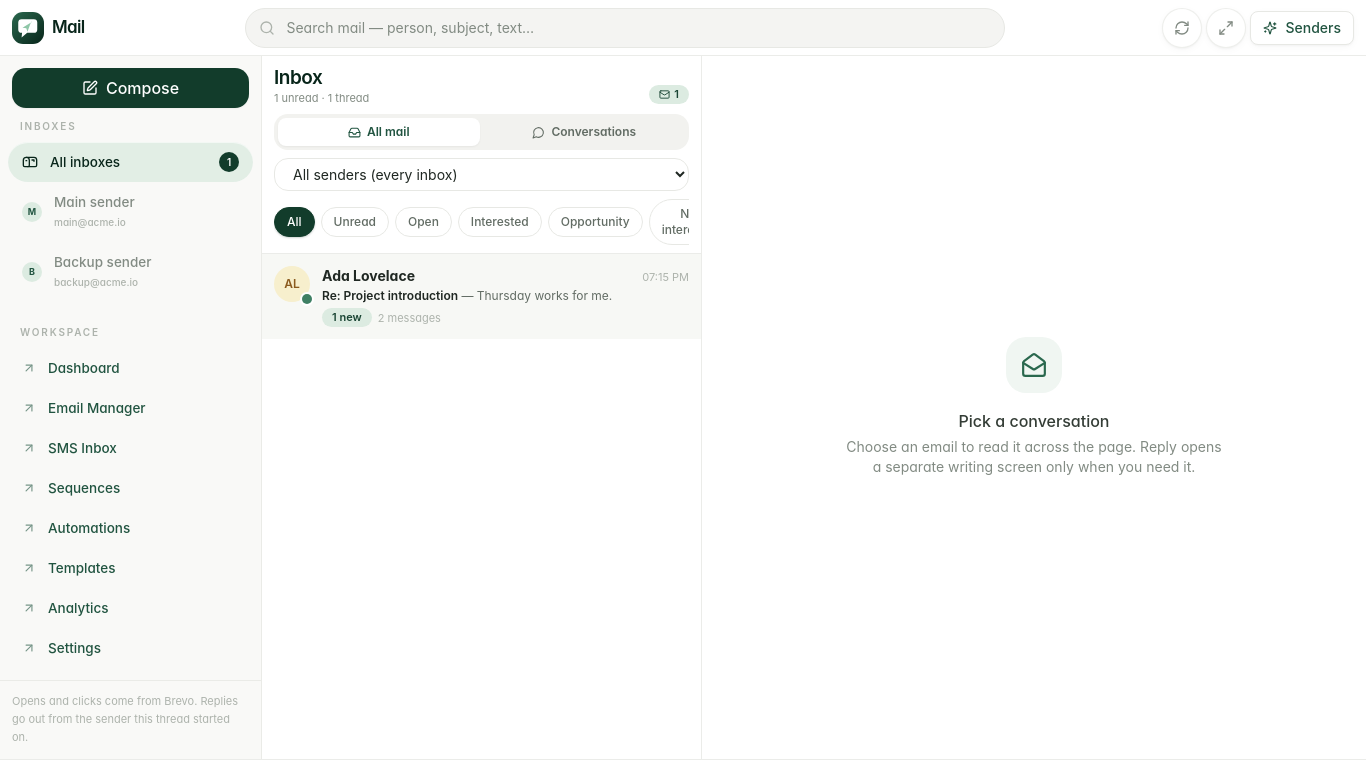
Test case: EmailInboxPage contact information › shows saved contact details, the alternate reply address, WhatsApp info, and upcoming meetings
Click the button "Ada Lovelace" at (482, 297), box [262,254,701,339]
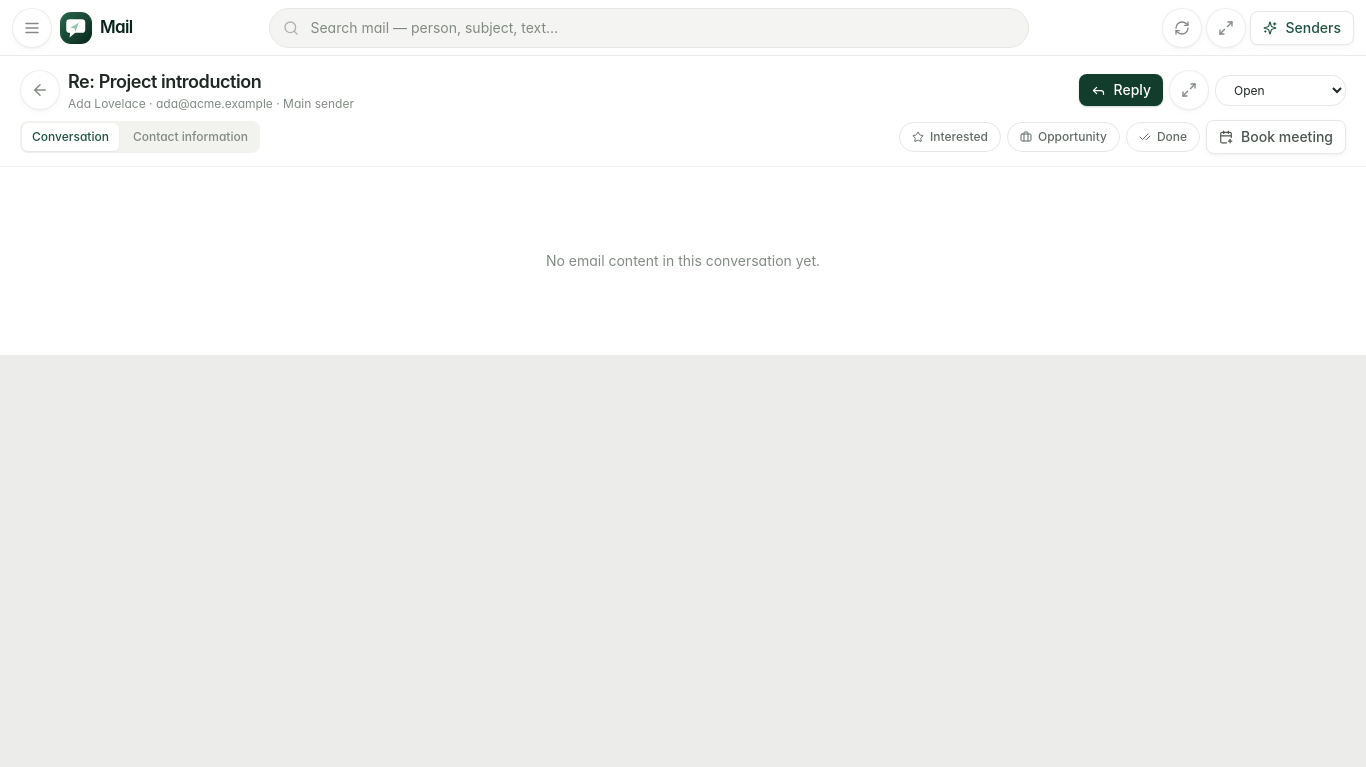
Expected: the tab "Contact information" is shown
Click the tab "Contact information" at (190, 137), box [123,123,258,151]
(page scrolled)
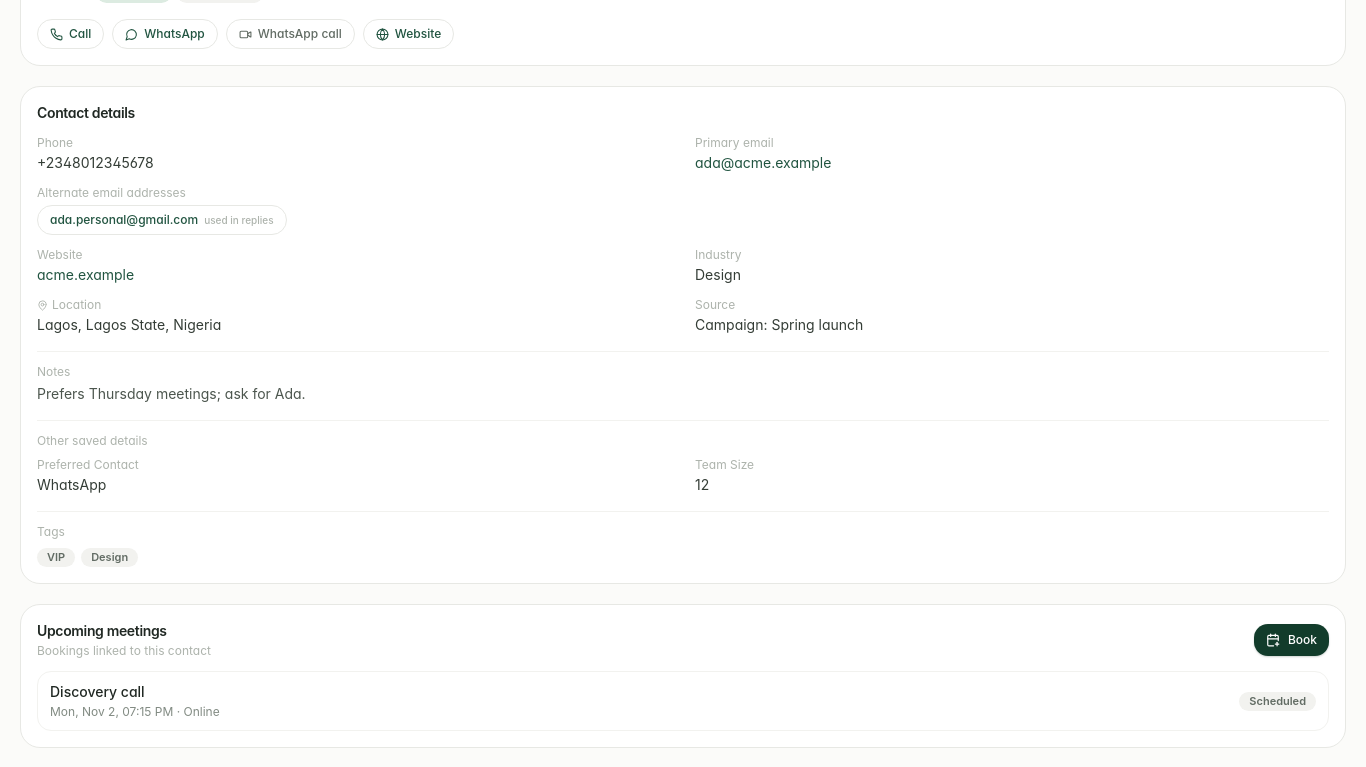
Expected: the link "ada@acme.example" is shown, [695,154,831,171]
Expected: the link "ada.personal@gmail.com used in replies" is shown, [37,205,287,235]
Expected: the link "acme.example" is shown, [37,266,134,283]
